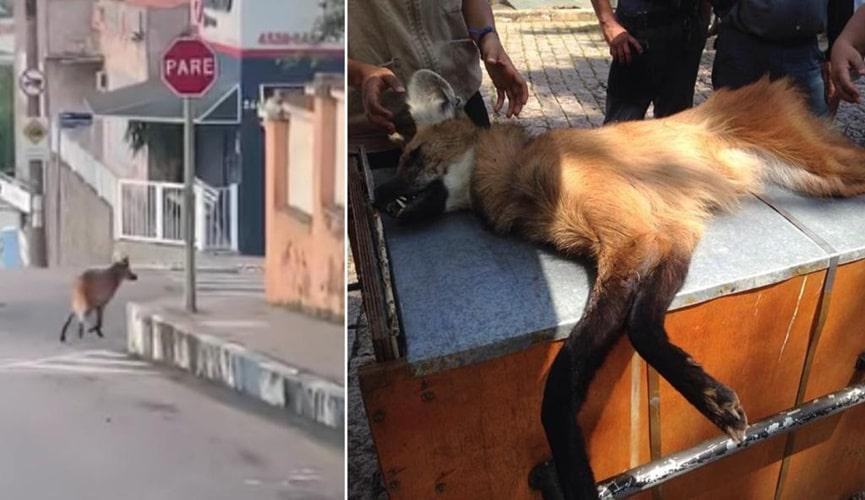LoboGuara: (371, 66, 840, 468), (39, 249, 143, 344)
